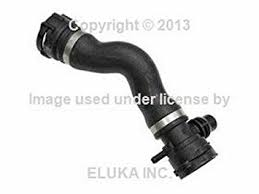radiator_hose: (43, 14, 216, 176)
